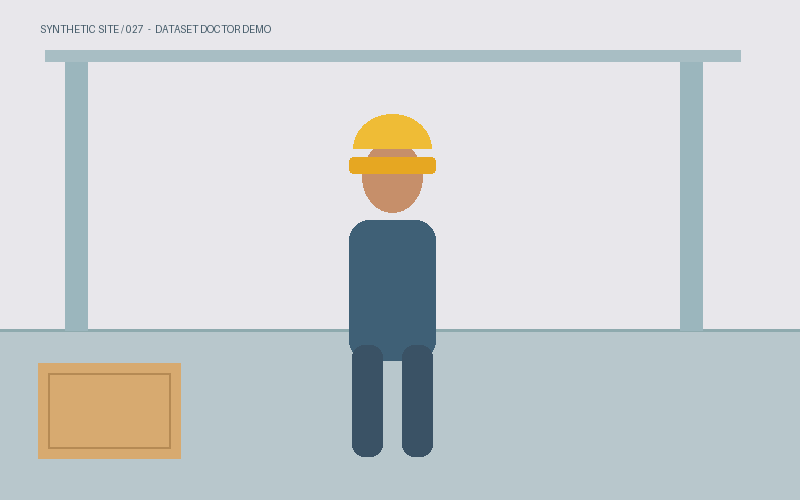Safety-Helmet: (349, 127, 435, 173)
